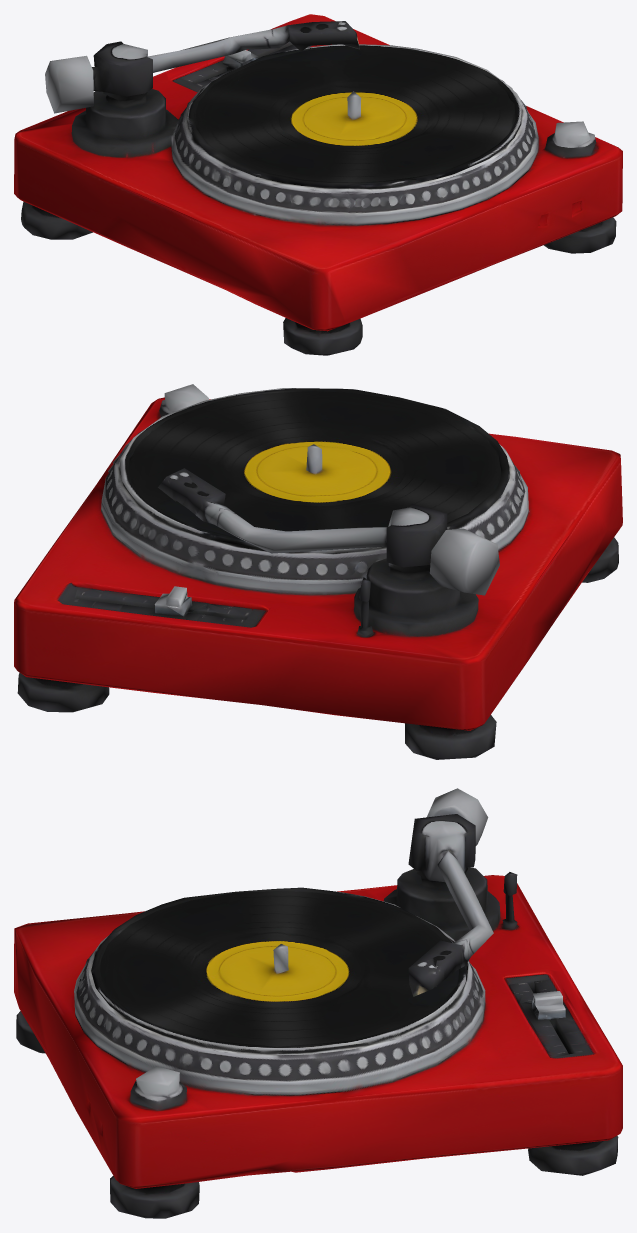
The model's file is turntable.glb.
The picture shows the model from 3 angles, top to bottom: view 1: azimuth 30°, elevation 25°; view 2: azimuth 150°, elevation 25°; view 3: azimuth 270°, elevation 25°; orthographic projection. The views are drawn at different scales.
Parts seen in each view (by area): view 1: tripo_node_fc8db6d1-d108-47d6-a7d0-89ee84adc9c8; view 2: tripo_node_fc8db6d1-d108-47d6-a7d0-89ee84adc9c8; view 3: tripo_node_fc8db6d1-d108-47d6-a7d0-89ee84adc9c8.
Part boxes in pixels (x1,y1,x2,y2): tripo_node_fc8db6d1-d108-47d6-a7d0-89ee84adc9c8: (14,14,622,355); tripo_node_fc8db6d1-d108-47d6-a7d0-89ee84adc9c8: (14,384,622,759); tripo_node_fc8db6d1-d108-47d6-a7d0-89ee84adc9c8: (14,788,622,1218).
Size of the model in its own units: 1.12 by 0.417 by 1.17.
1 material, 1 textured.
